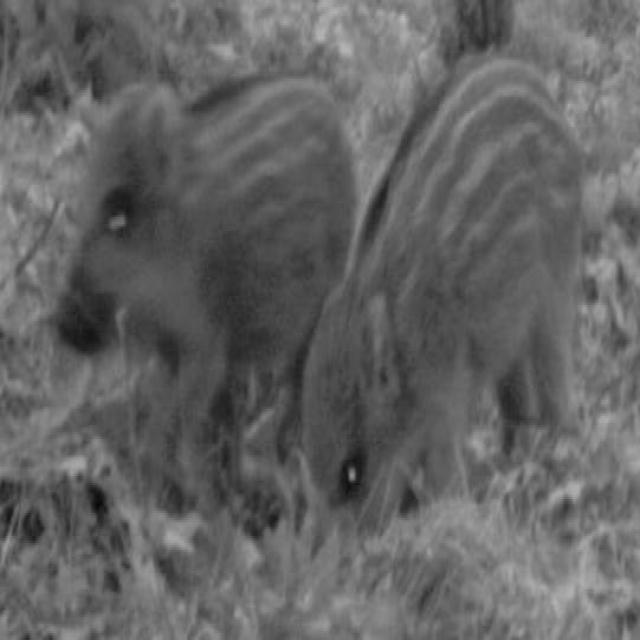pig: (296, 20, 588, 528), (71, 35, 383, 493)
